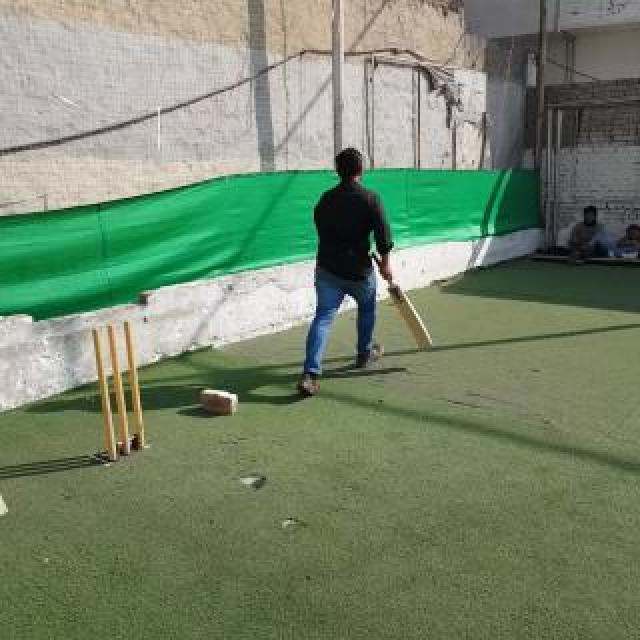bat: (371, 250, 433, 348)
